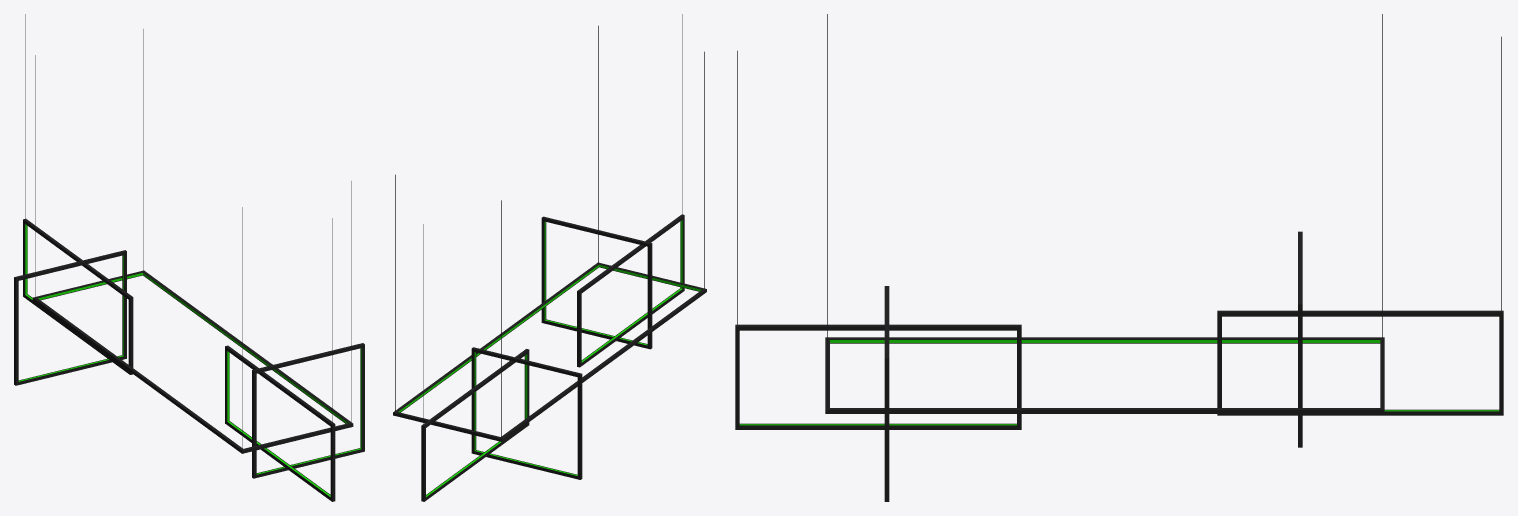
The model's file is Ceiling lamp.fbx.
3 renders of one model, left to right at view 1: azimuth 30°, elevation 25°; view 2: azimuth 150°, elevation 25°; view 3: azimuth 270°, elevation 25°, orthographic. The views are drawn at different scales.
Parts seen in each view (by area): view 1: Light_Linear_Emissive1; view 2: Light_Linear_Emissive1; view 3: Light_Linear_Emissive1.
Part boxes in pixels (x1,y1,x2,y2): Light_Linear_Emissive1: (14, 14, 364, 501); Light_Linear_Emissive1: (393, 14, 706, 501); Light_Linear_Emissive1: (735, 14, 1503, 501).
Bounding box in the file's own units: 2.62 × 3.8 × 6.71.
Materials: 1 (1 with a texture image).
